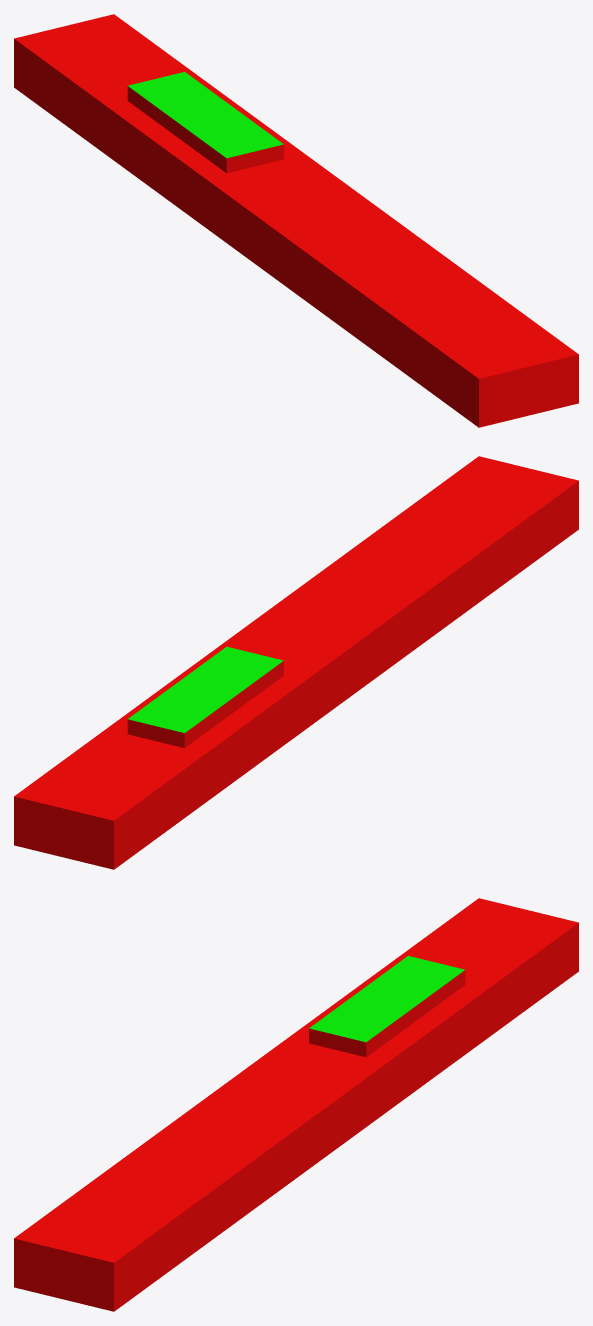
File: labeled.obj
The picture shows the model from 3 angles, top to bottom: view 1: azimuth 30°, elevation 25°; view 2: azimuth 150°, elevation 25°; view 3: azimuth 330°, elevation 25°; orthographic projection.
Bounding box in the file's own units: 0.0186 × 0.0114 × 0.1497.
